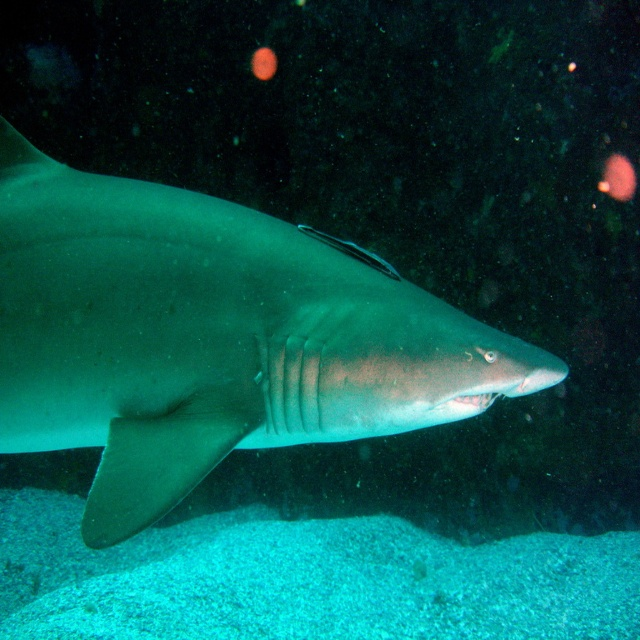Shark: (0, 115, 569, 551)
